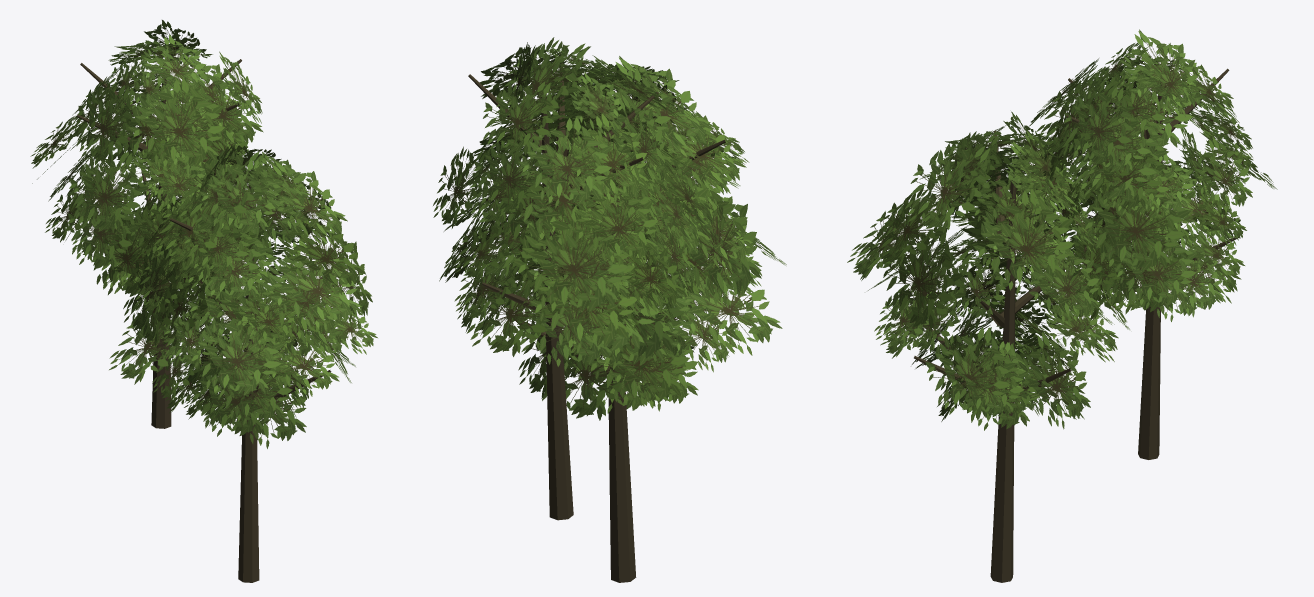
Rendered from TRB8-FOREST-CHUNK-4-1.glb.
The picture shows the model from 3 angles, left to right: view 1: azimuth 30°, elevation 25°; view 2: azimuth 150°, elevation 25°; view 3: azimuth 270°, elevation 25°; orthographic projection. The views are drawn at different scales.
Parts seen in each view (by area): view 1: TRB8-FOREST-CHUNK-4-1; view 2: TRB8-FOREST-CHUNK-4-1; view 3: TRB8-FOREST-CHUNK-4-1.
Boxes of the visible parts, <box> form: TRB8-FOREST-CHUNK-4-1: <box>30,20,377,582</box>; TRB8-FOREST-CHUNK-4-1: <box>433,37,786,582</box>; TRB8-FOREST-CHUNK-4-1: <box>847,29,1277,582</box>.
Size of the model in its own units: 3.43 by 6.68 by 5.25.
Materials: 2 (1 with a texture image).
